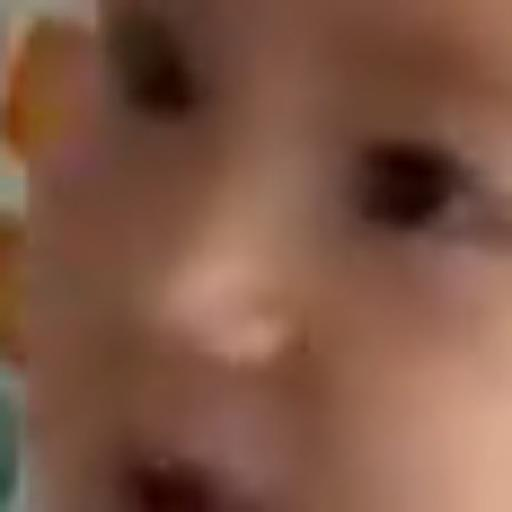Autism: (38, 0, 512, 512)
